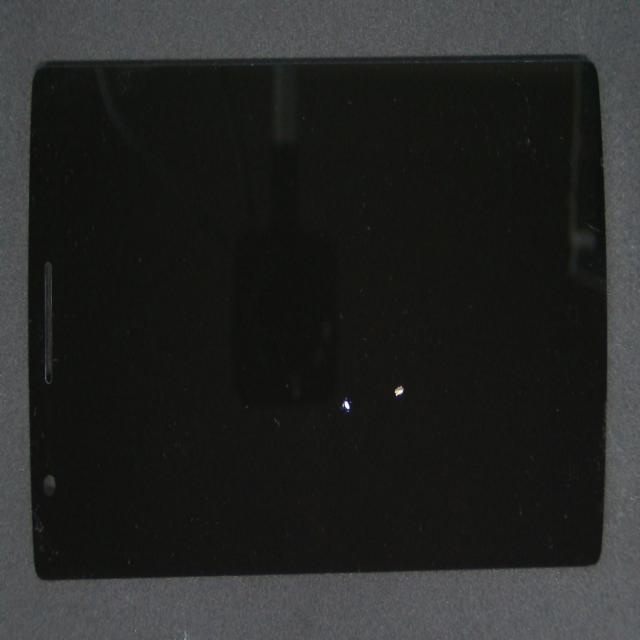stain: (219, 218, 616, 572), (197, 234, 536, 603)
